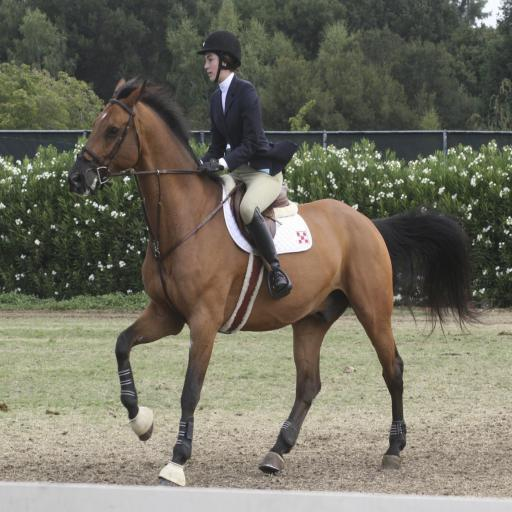horse: (68, 78, 484, 489)
